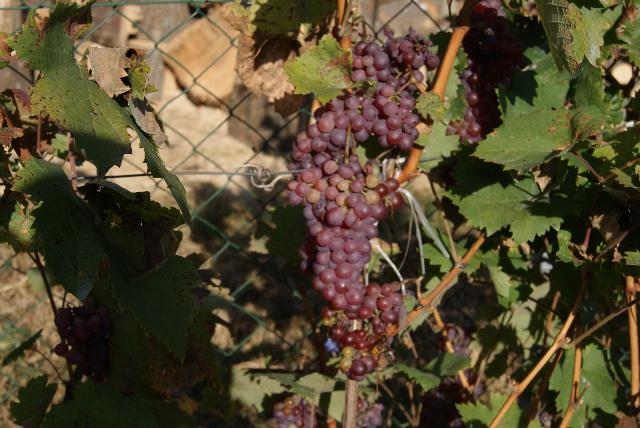grapes: (288, 151, 402, 319), (315, 29, 439, 150), (331, 281, 402, 381), (329, 174, 341, 186)
